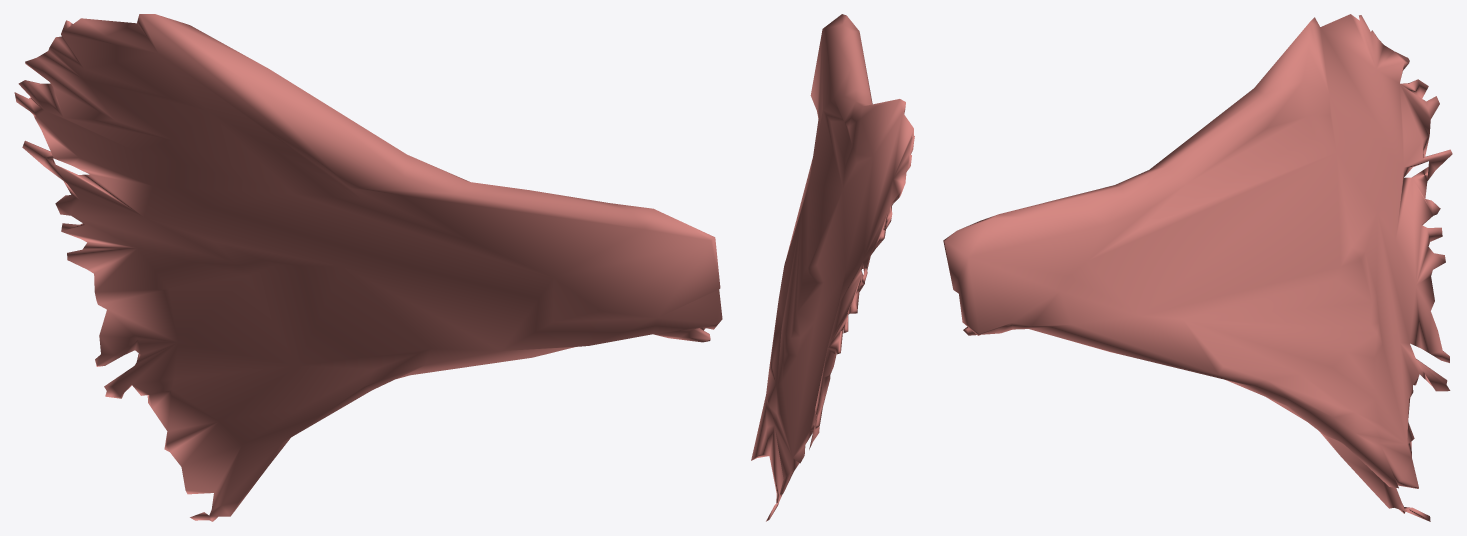
3 views of the same model, side by side, from view 1: azimuth 30°, elevation 25°; view 2: azimuth 150°, elevation 25°; view 3: azimuth 270°, elevation 25° (orthographic). The views are drawn at different scales.
Parts seen in each view (by area): view 1: ZA_f0f8c56e2bac1229; view 2: ZA_f0f8c56e2bac1229; view 3: ZA_f0f8c56e2bac1229.
Boxes of the visible parts, box(x1,y1,x2,y2) form: ZA_f0f8c56e2bac1229: box(14, 14, 722, 521); ZA_f0f8c56e2bac1229: box(751, 14, 914, 521); ZA_f0f8c56e2bac1229: box(943, 14, 1452, 521).
Bounding box in the file's own units: 0.0197 × 0.0272 × 0.0275.
